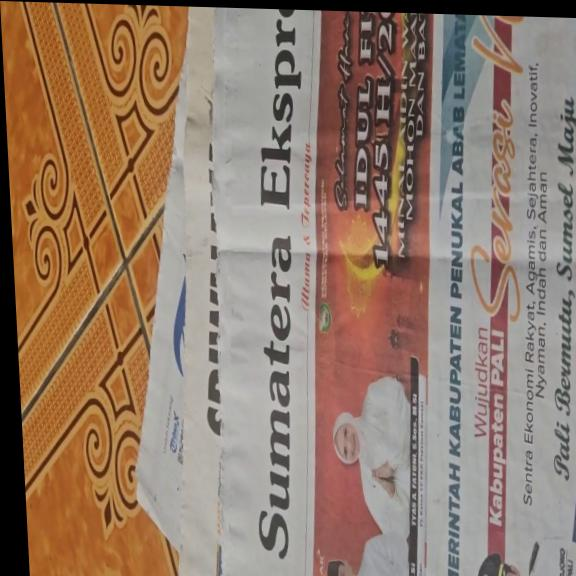Kertas: (118, 14, 576, 576)
